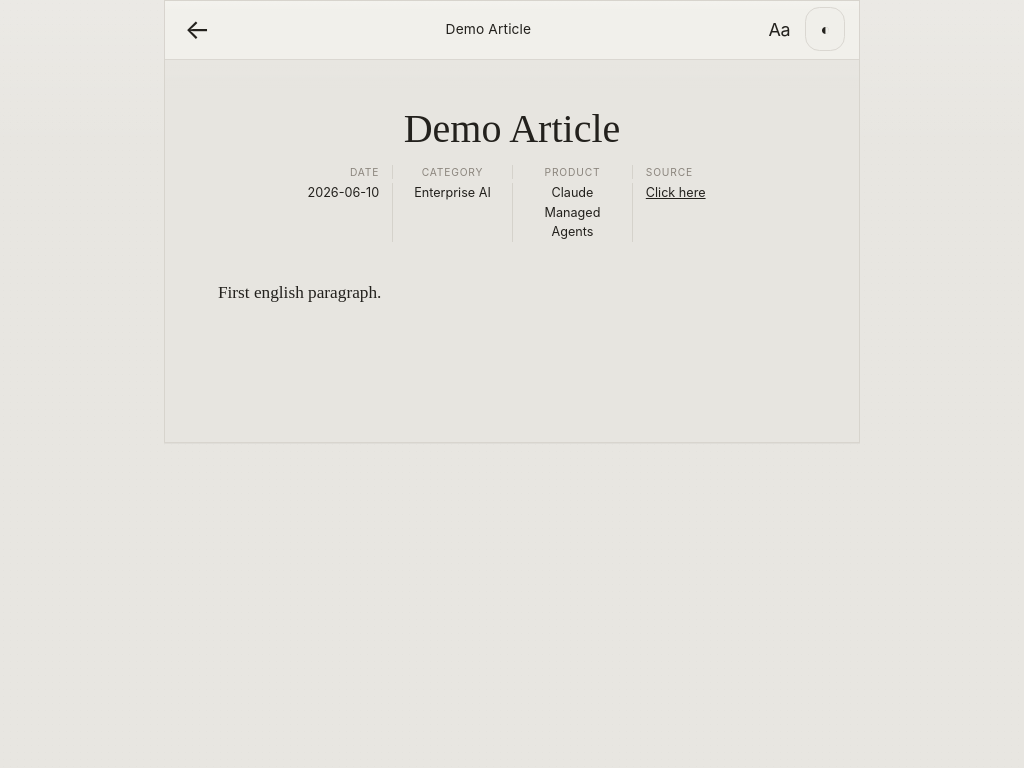
Test: ArticlePage › keeps the theme button available while the reading controls are open
Click the button with aria-label "open reading settings" at (779, 29), box x1=761 y1=10 x2=798 y2=48
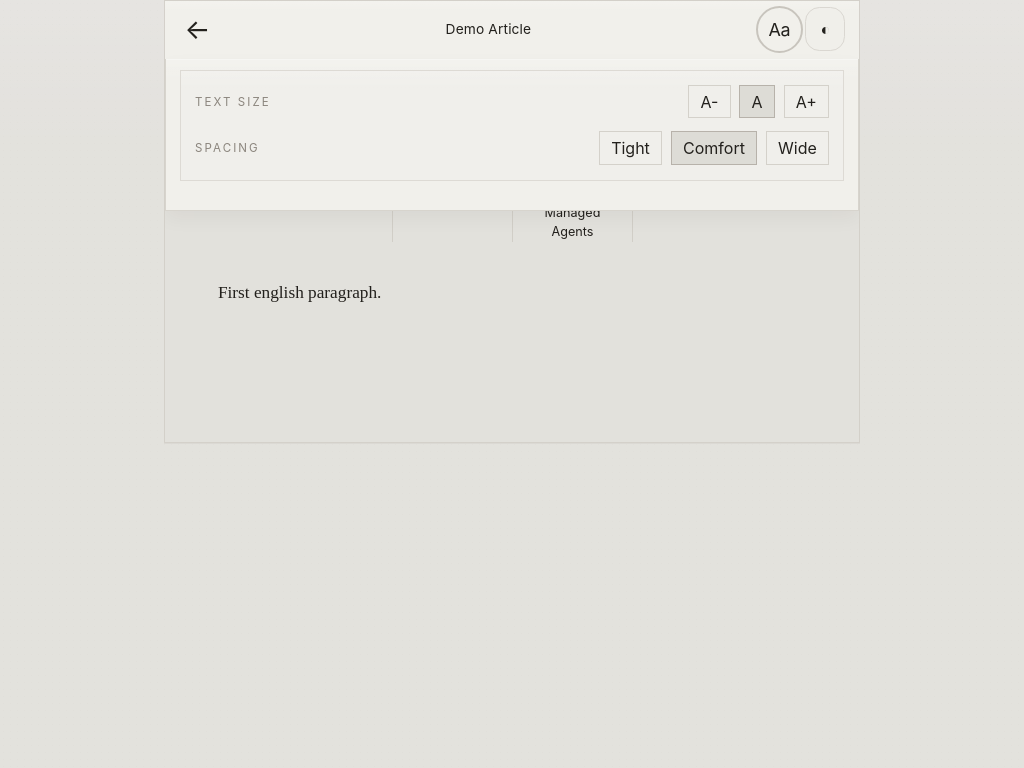
expect the button named "toggle theme" is shown: met, box x1=805 y1=7 x2=845 y2=51
expect the text "Text size" is shown: met, box x1=195 y1=95 x2=271 y2=109
